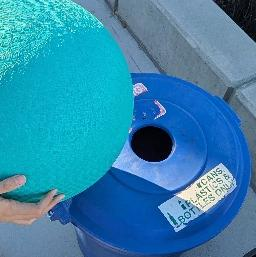algae: (0, 0, 127, 202)
